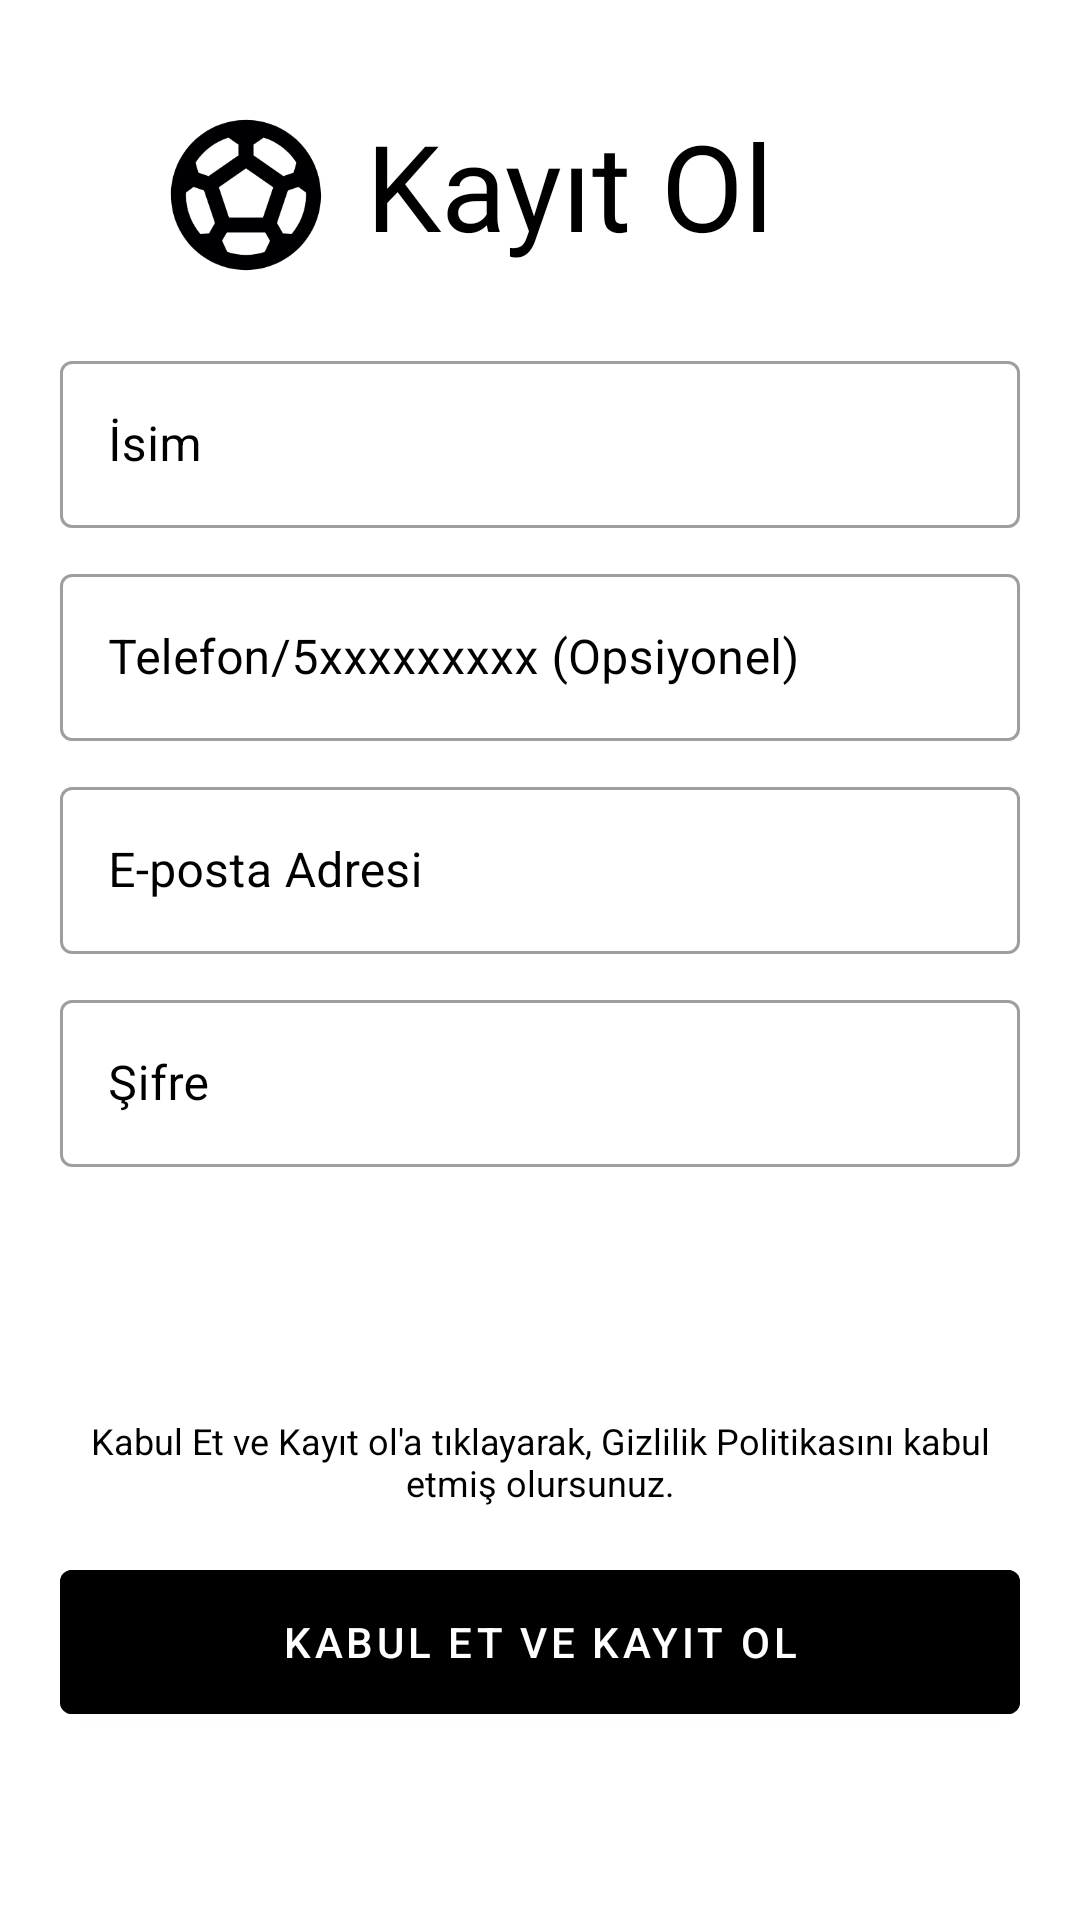

Icon bounding boxes for this 1080×1920 phone screenshot, format bbox=[x1, y1, x2, y2]:
sports soccer: bbox=[170, 119, 321, 271]
